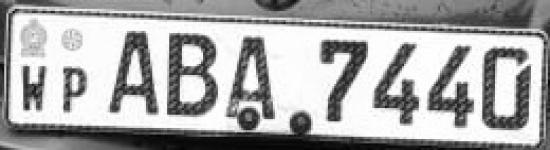0: (479, 37, 537, 137)
4: (374, 34, 426, 133), (427, 36, 479, 133)
7: (314, 35, 371, 126)
A: (101, 24, 160, 122), (226, 30, 285, 126)
B: (163, 27, 221, 123)
P: (58, 62, 93, 118)
W: (15, 60, 51, 115)
